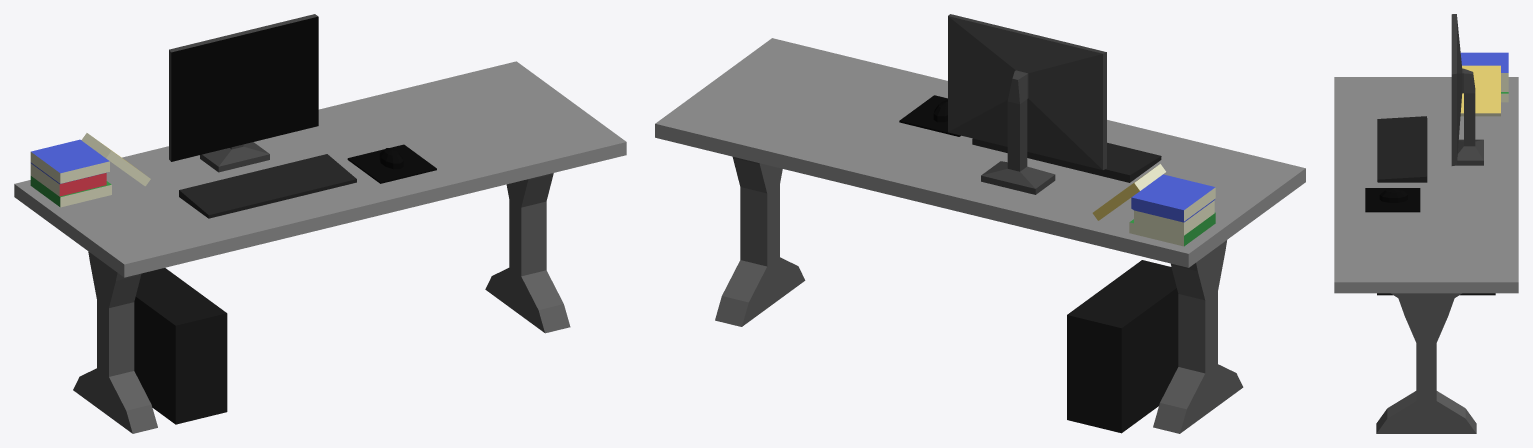
Rendered from Computer_mouseDesk.fbx.
The picture shows the model from 3 angles, left to right: view 1: azimuth 30°, elevation 25°; view 2: azimuth 150°, elevation 25°; view 3: azimuth 270°, elevation 25°; orthographic projection. The views are drawn at different scales.
Parts seen in each view (by area): view 1: Cube, Cube.004, Cube.001, Cube.005, Cube.003, Cube.002; view 2: Cube, Cube.004, Cube.001, Cube.005, Cube.002, Cube.003; view 3: Cube, Cube.001, Cube.004, Cube.003, Cube.002.
Part boxes in pixels (x1,y1,x2,y2): Cube: (14,61,626,277); Cube.004: (169,14,436,183); Cube.001: (73,173,570,433); Cube.005: (134,268,227,424); Cube.003: (179,154,356,218); Cube.002: (30,133,150,207); Cube: (655,38,1305,267); Cube.004: (899,14,1106,194); Cube.001: (715,157,1243,433); Cube.005: (1067,260,1178,433); Cube.002: (1092,164,1215,246); Cube.003: (972,138,1161,182); Cube: (1334,77,1518,293); Cube.001: (1376,293,1476,433); Cube.004: (1365,14,1483,212); Cube.003: (1377,116,1427,182); Cube.002: (1460,52,1508,116).
Bounding box in the file's own units: 1951 × 1226 × 741.
